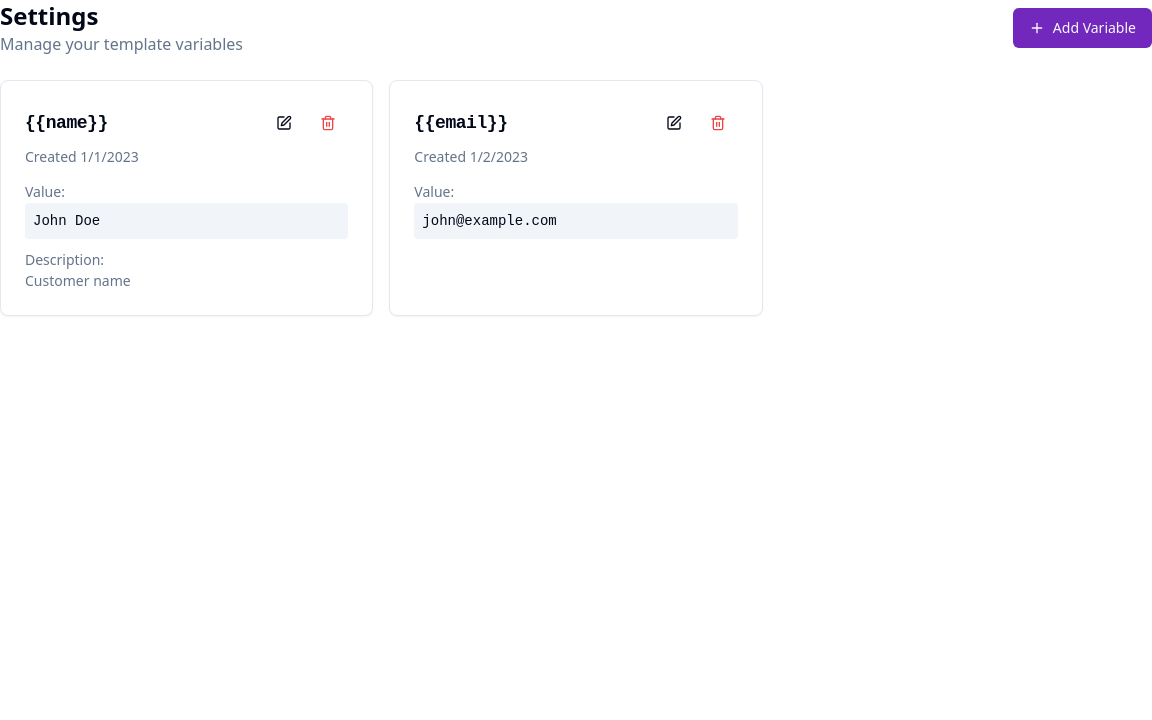
Settings › should edit existing variable when edit button is clicked
Click the button named "edit". click: click(284, 123)
box: [264,105,304,141]
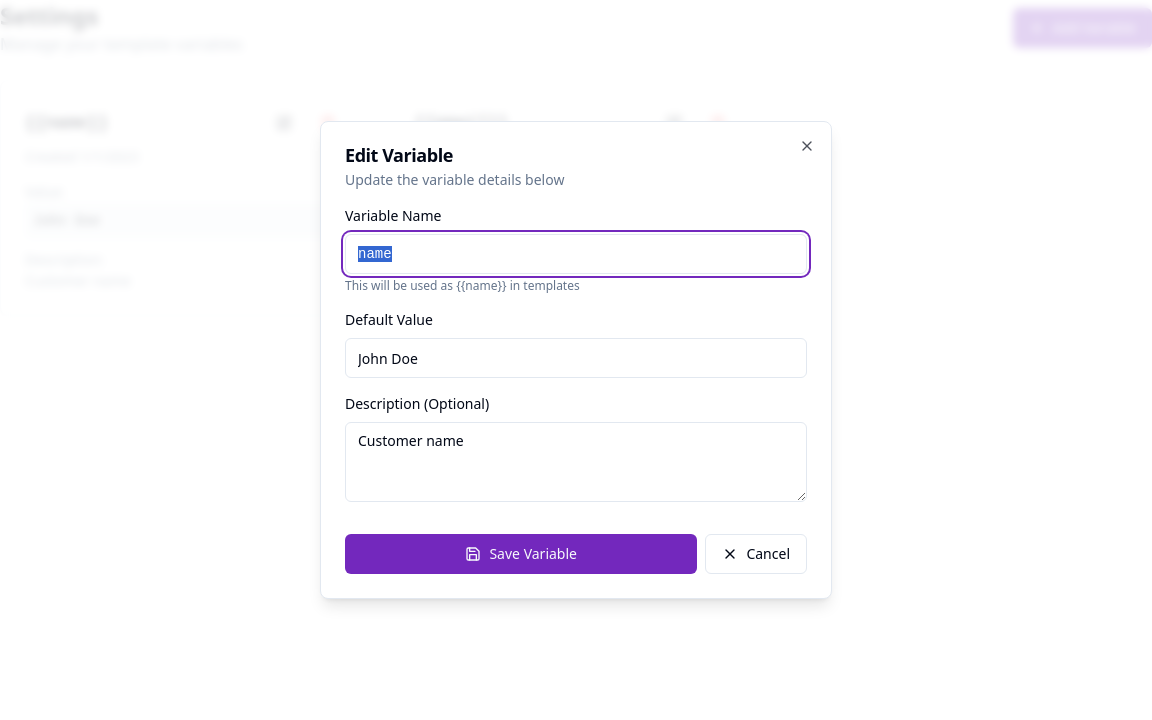
Check: the heading "Edit Variable" is shown, box [345,143,453,167]
Check: the field showing "name" is shown, box [345,234,807,274]
Check: the field showing "John Doe" is shown, box [345,338,807,378]
